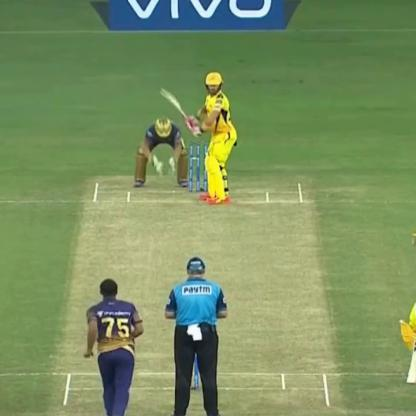bat: (149, 79, 205, 138)
pitch: (32, 176, 354, 414)
